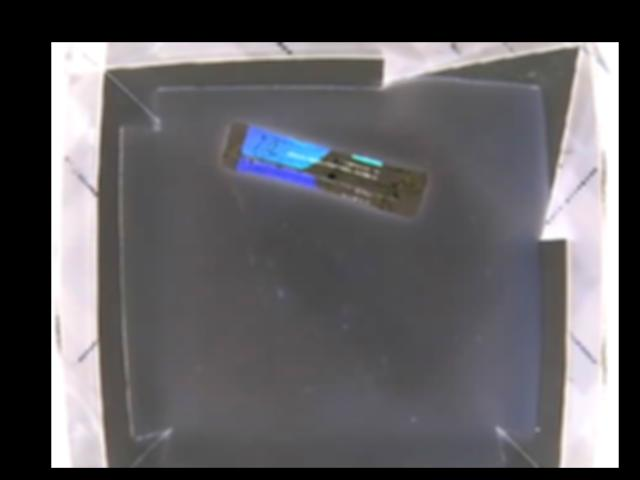Medicine: (221, 122, 429, 217)
